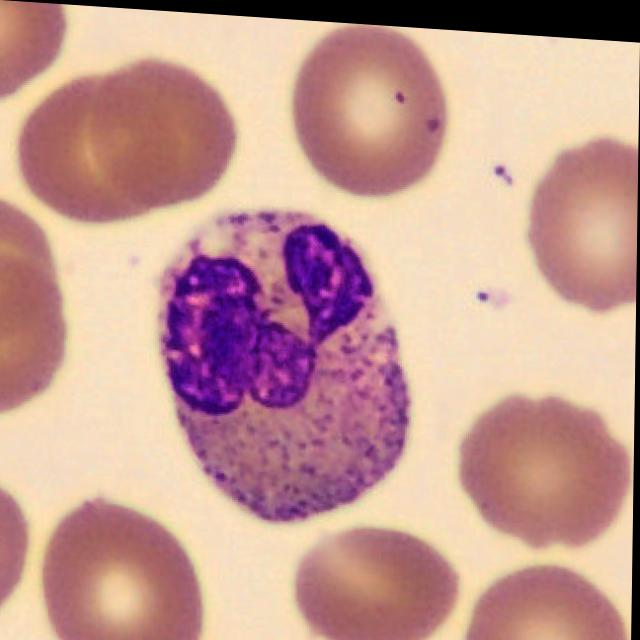Neutrofilo segmentado: (158, 208, 412, 520)
